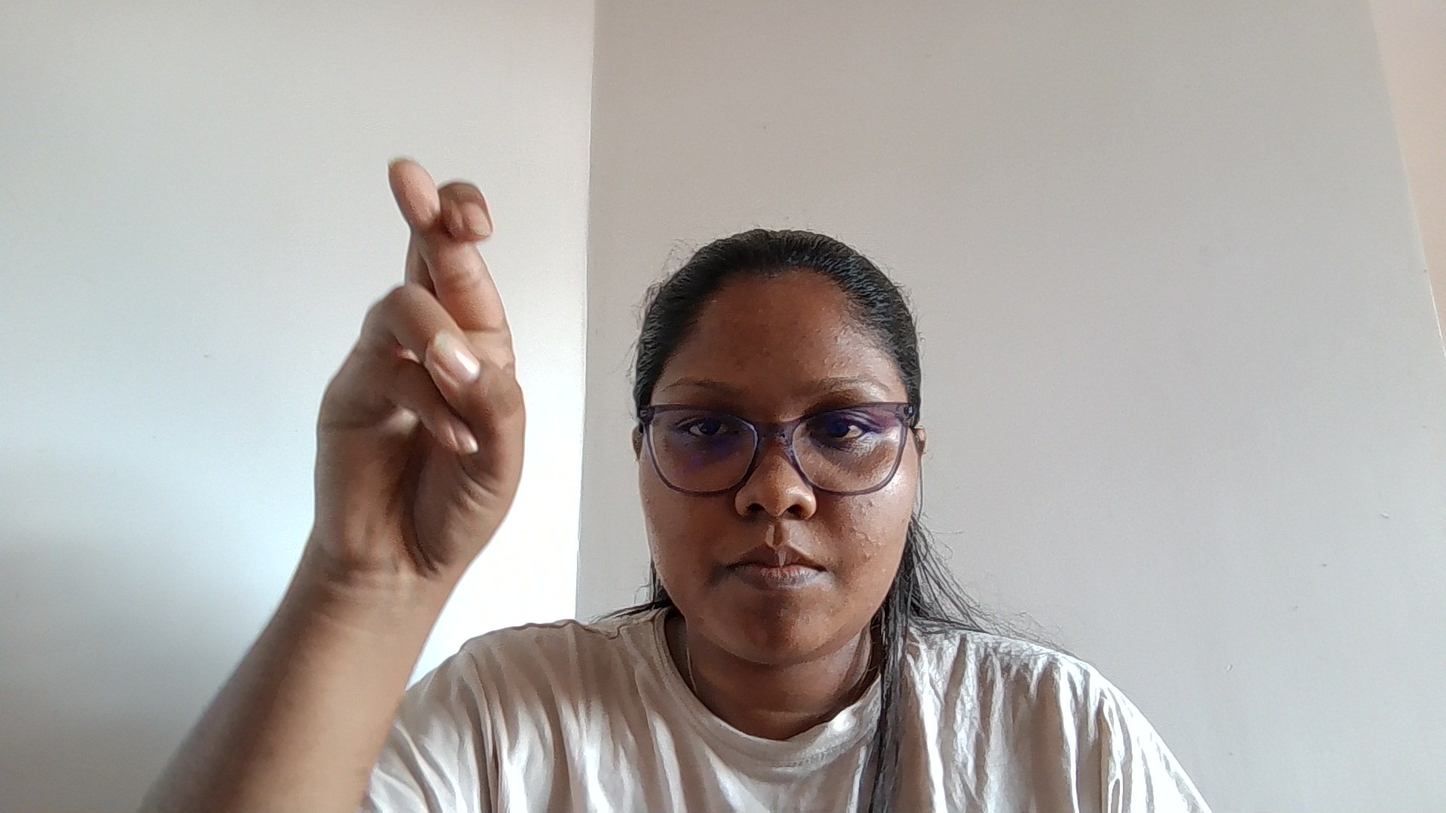Good_Luck: (265, 124, 601, 626)
